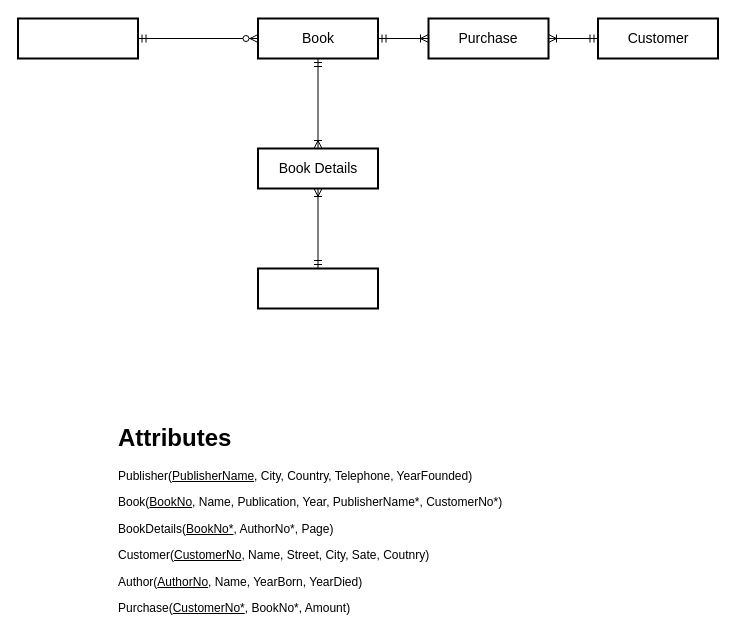
Some shapes in this 736 by 635 pixel diagram are drawn without their labels. The box of each missing label's shape, as (x1, y1, x2, y2) in pixels:
Author: (256, 267, 378, 309)
Publisher: (16, 17, 138, 59)
